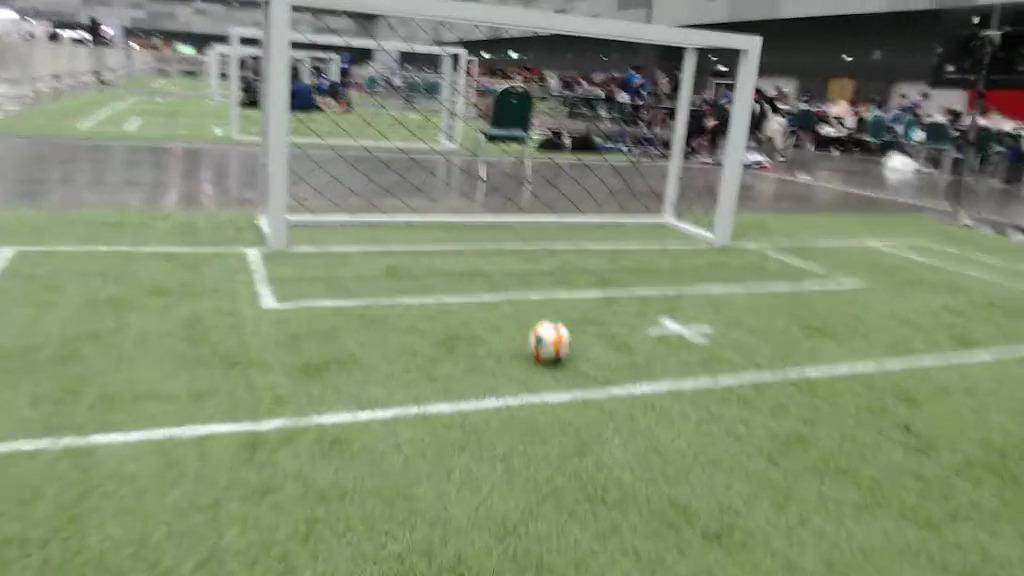ball: (530, 322, 571, 363)
